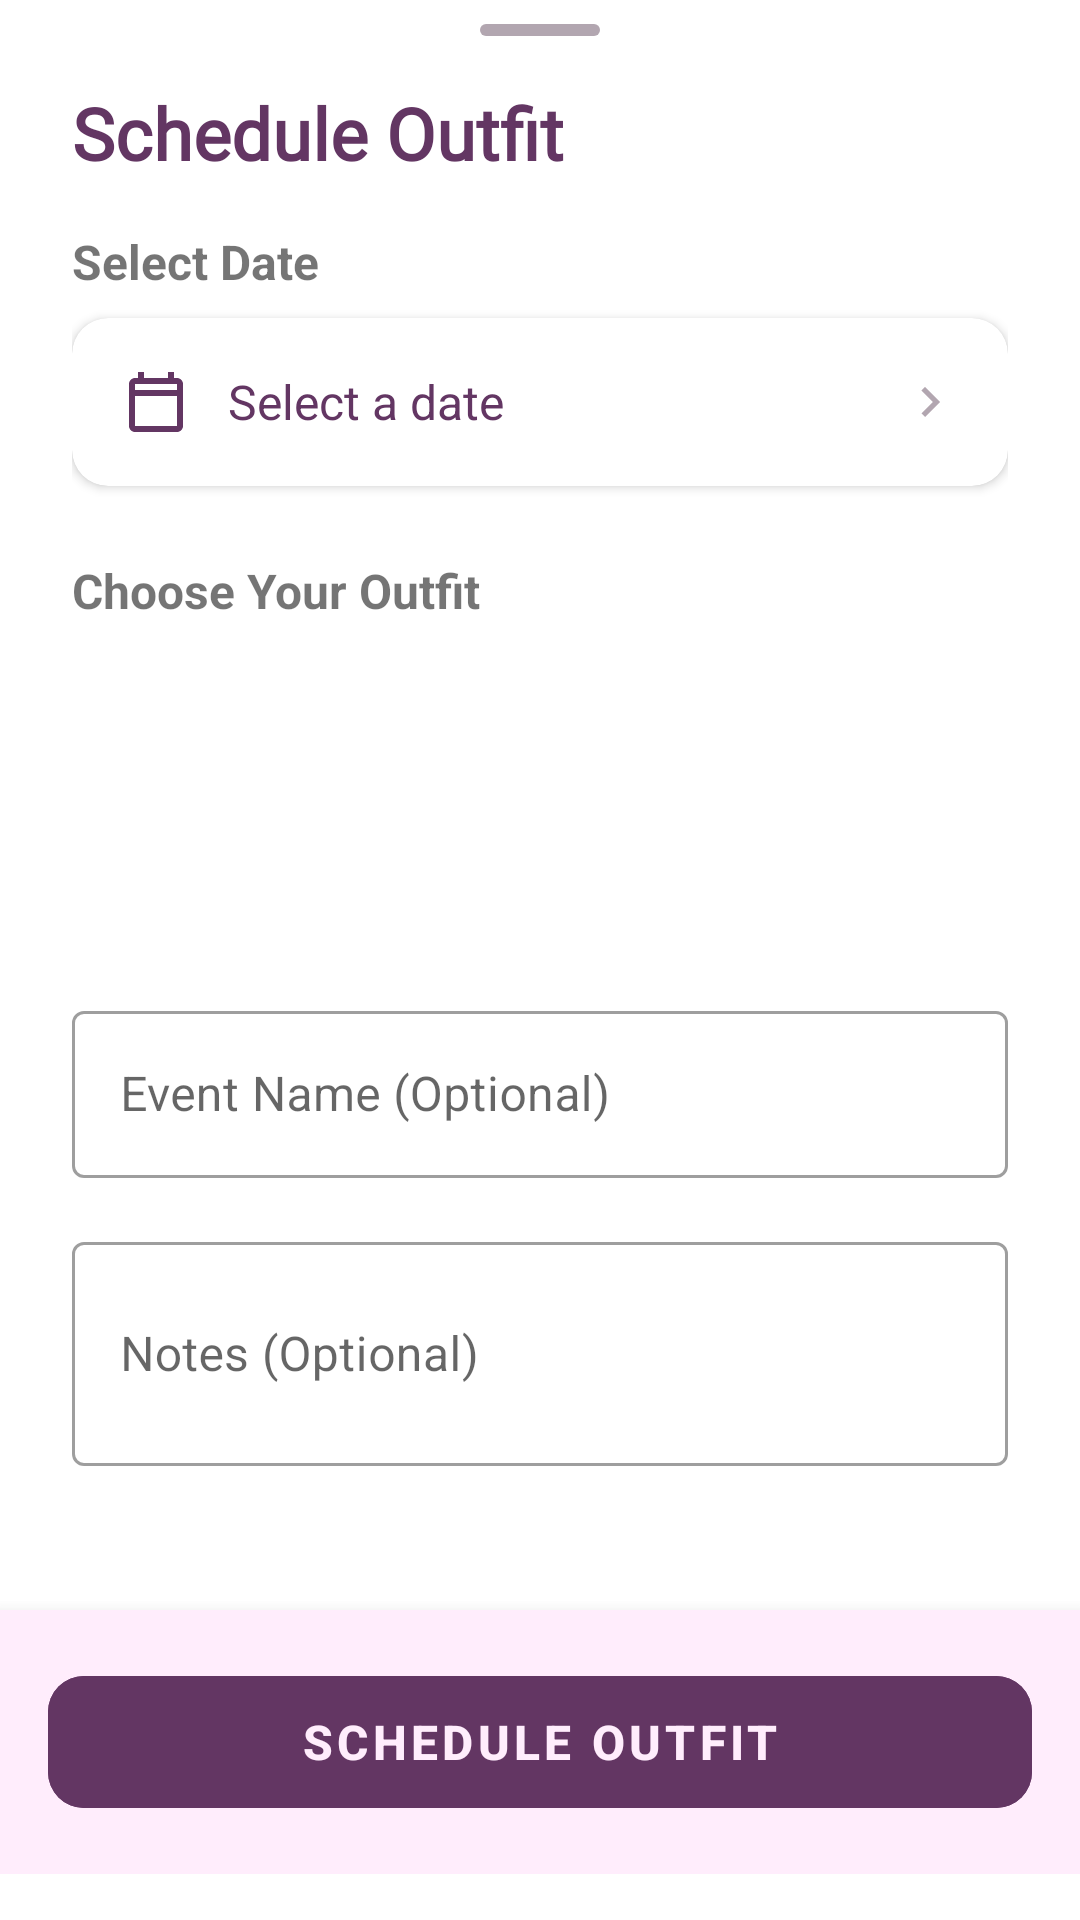

Where icons sit on this 1080*1920 app screen, as {"x1": x1, "y1": y1, "x2": x2, "y2": y2}:
arrow right: {"x1": 921, "y1": 387, "x2": 940, "y2": 417}
calendar: {"x1": 129, "y1": 372, "x2": 183, "y2": 432}
